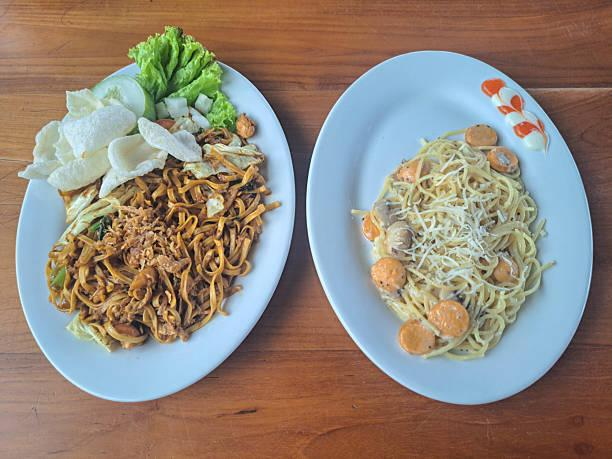Braised Crucian Carp: (306, 47, 592, 407), (17, 50, 296, 401)
